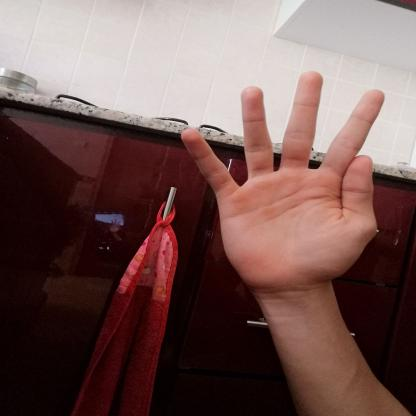SHEEN: (175, 63, 396, 298)
